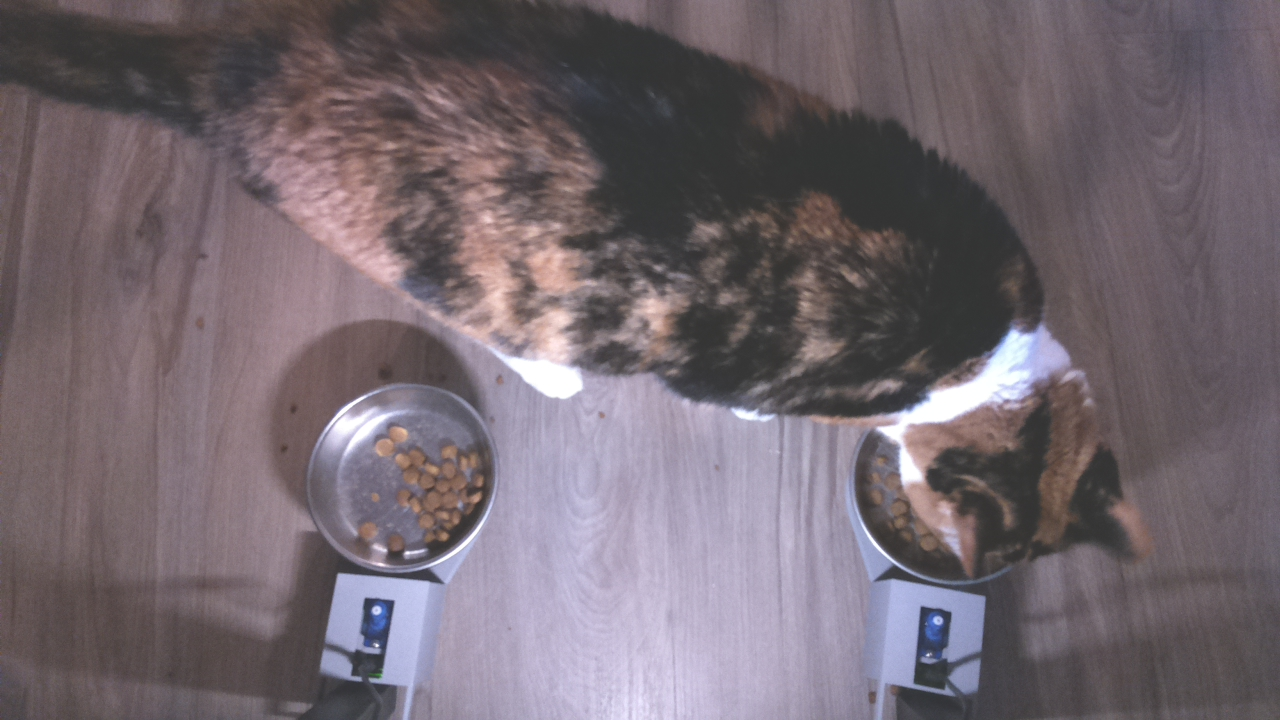bella_eating: (839, 326, 1164, 604)
open_bowl: (299, 380, 505, 575)
